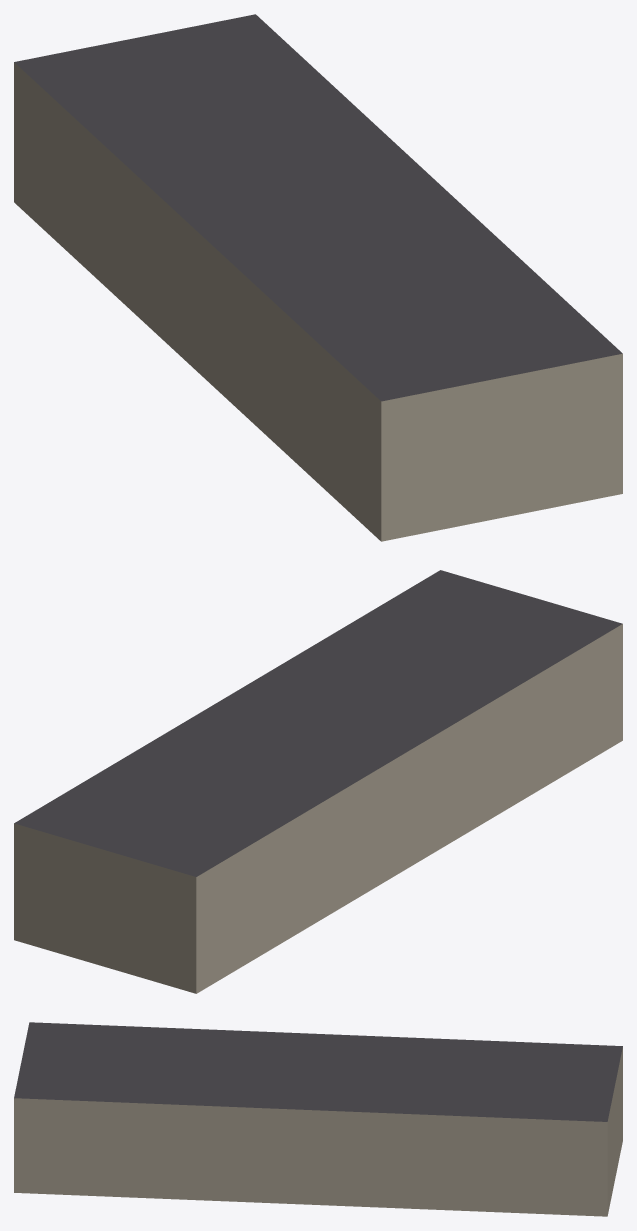
3 renders of one model, top to bottom at view 1: azimuth 30°, elevation 25°; view 2: azimuth 150°, elevation 25°; view 3: azimuth 270°, elevation 25°, orthographic. The views are drawn at different scales.
Parts seen in each view (by area): view 1: tuile; view 2: tuile; view 3: tuile.
Boxes of the visible parts, box(x1,y1,x2,y2) form: tuile: box(14, 14, 622, 541); tuile: box(14, 570, 622, 993); tuile: box(14, 1022, 622, 1216).
Size of the model in its own units: 13.8 by 6.11 by 35.6.
